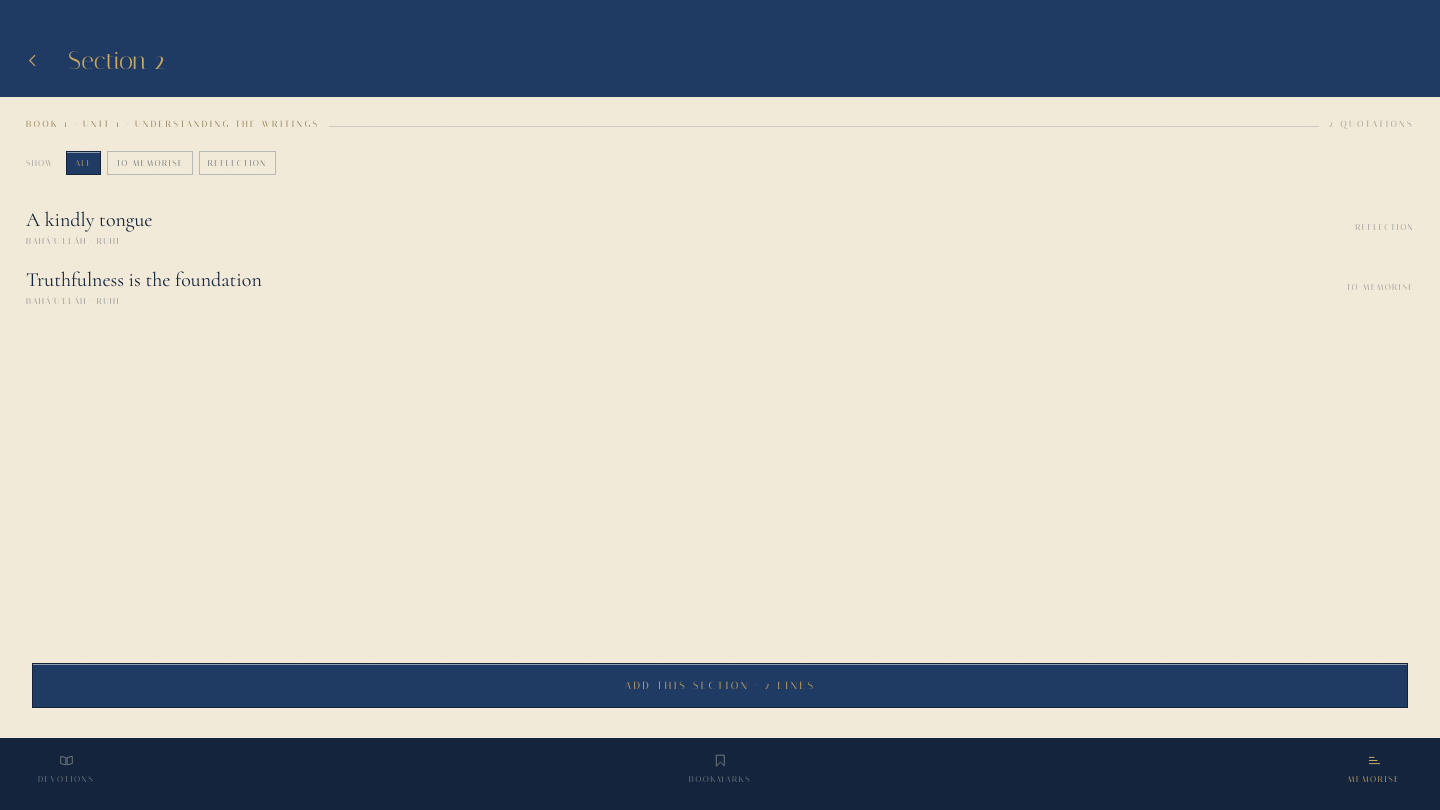
Test: the To Memorise and Reflection filter, scope 5.4 › narrows a section that holds both
Expected: the text "A kindly tongue" is shown, top-left (26, 208), bottom-right (152, 232)
Expected: the text "Truthfulness is the foundation" is shown, top-left (26, 268), bottom-right (262, 292)
Click the radio button labelled "REFLECTION": (237, 163) top-left (199, 141), bottom-right (276, 185)
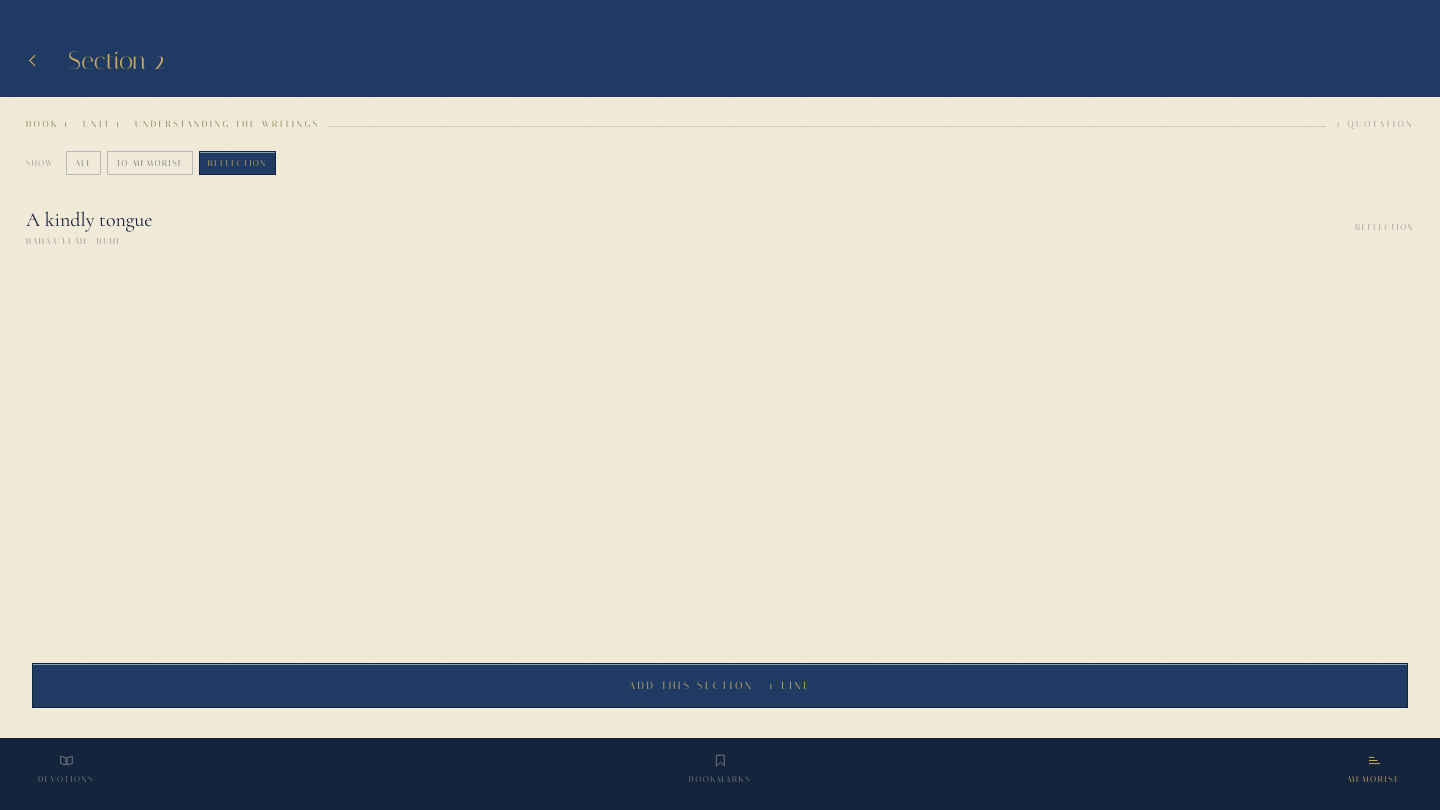
Expected: the text "A kindly tongue" is shown, top-left (26, 208), bottom-right (152, 232)
Result: the link "Truthfulness is the foundation" is gone
